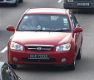car: (7, 7, 84, 68)
